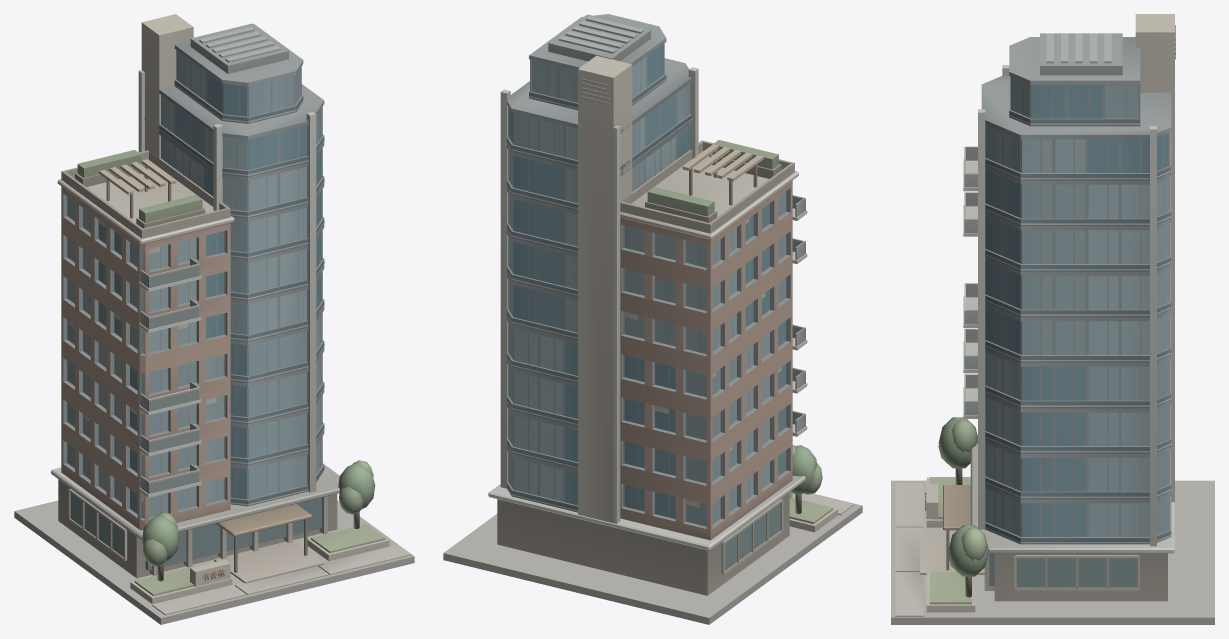
File: school-house.glb
The picture shows the model from 3 angles, left to right: view 1: azimuth 30°, elevation 25°; view 2: azimuth 150°, elevation 25°; view 3: azimuth 270°, elevation 25°; orthographic projection. The views are drawn at different scales.
Parts seen in each view (by area): view 1: school-house; view 2: school-house; view 3: school-house.
Part boxes in pixels (x1=…): school-house: x1=14, y1=14, x2=414, y2=624; school-house: x1=443, y1=14, x2=862, y2=624; school-house: x1=891, y1=14, x2=1214, y2=624.
Size of the model in its own units: 2 by 3.63 by 2.
